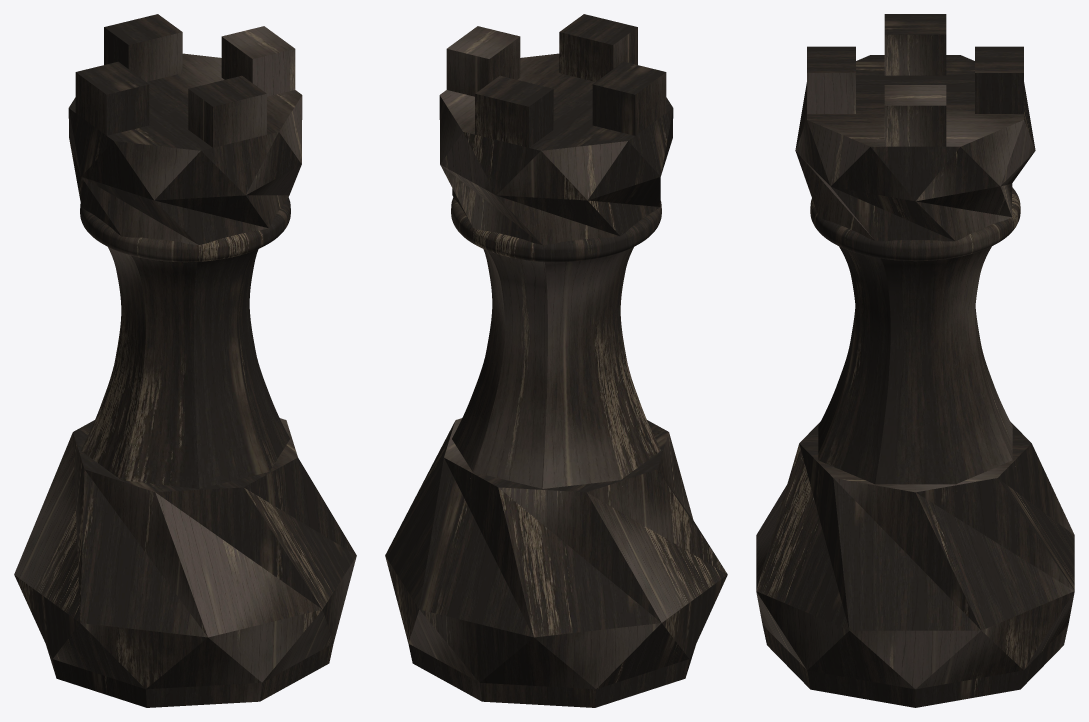
The model's file is rook-black-hd.glb.
The picture shows the model from 3 angles, left to right: view 1: azimuth 30°, elevation 25°; view 2: azimuth 150°, elevation 25°; view 3: azimuth 270°, elevation 25°; orthographic projection.
Parts seen in each view (by area): view 1: Lithoxyl_Rook_Onyx; view 2: Lithoxyl_Rook_Onyx; view 3: Lithoxyl_Rook_Onyx.
Part boxes in pixels (x1,y1,x2,y2): Lithoxyl_Rook_Onyx: (14, 14, 356, 707); Lithoxyl_Rook_Onyx: (385, 14, 727, 707); Lithoxyl_Rook_Onyx: (756, 14, 1074, 707).
Size of the model in its own units: 0.4983 by 1.01 by 0.4983.
Materials: 1 (1 with a texture image).
